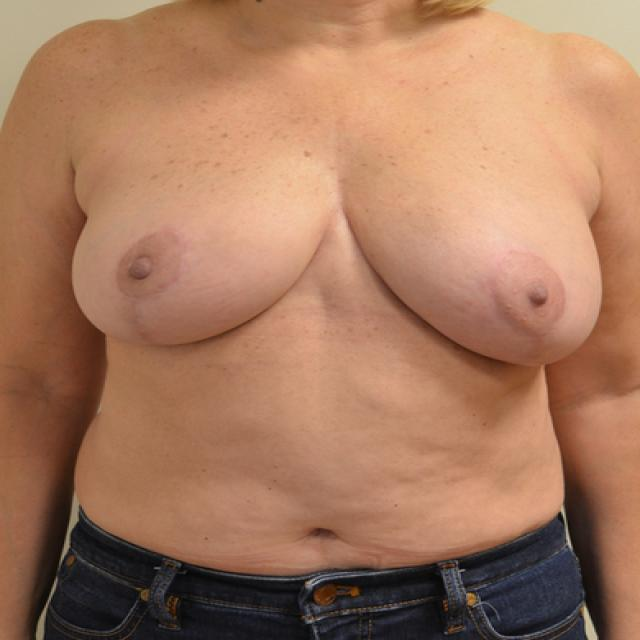Seno herido: (341, 154, 610, 382), (65, 154, 335, 362)
